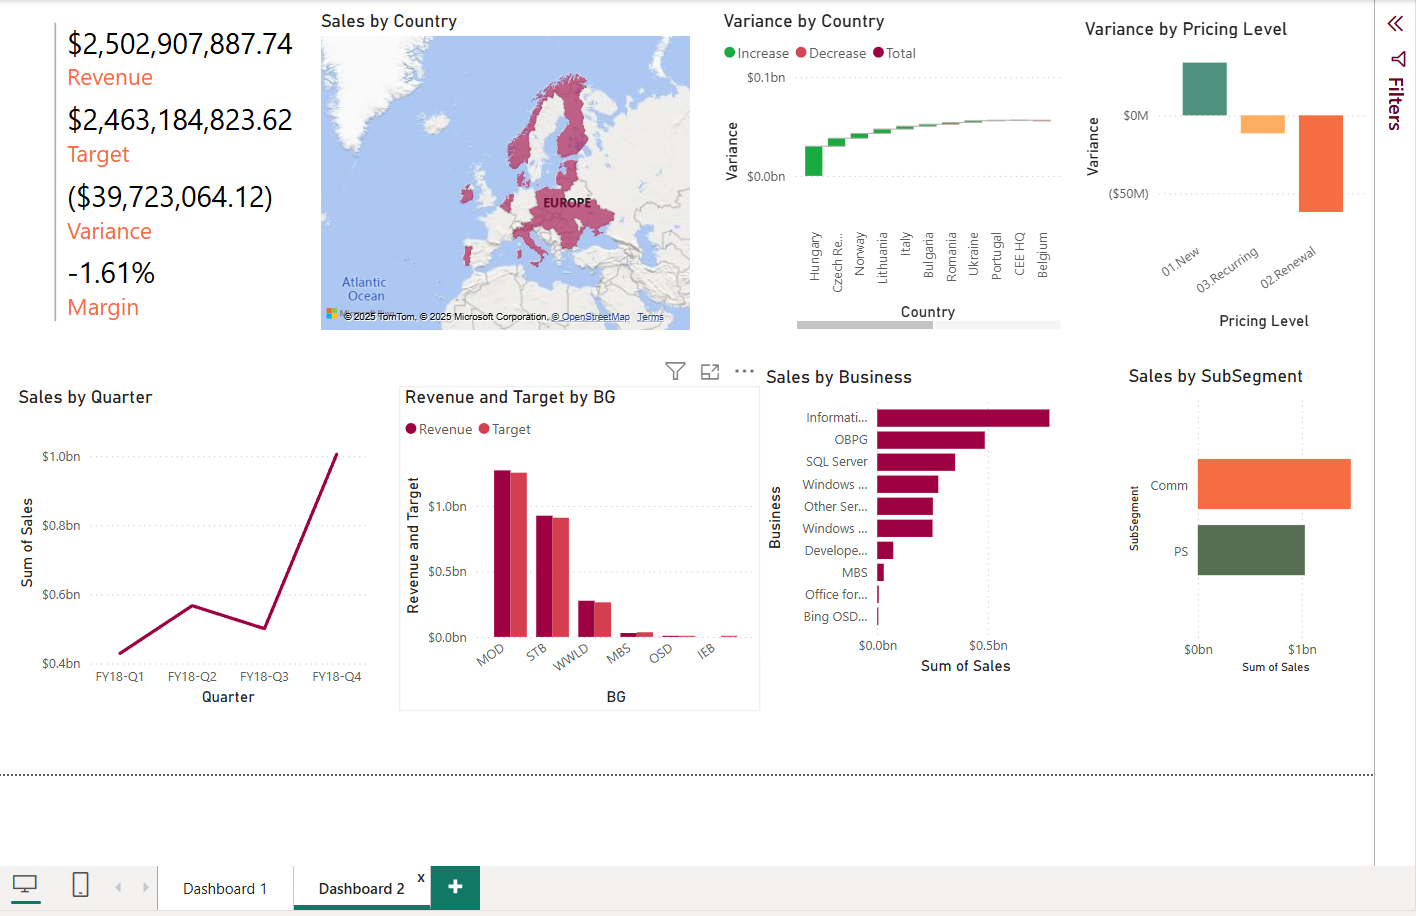

This screenshot's page, from the dashboard's own definition file:
{"tool":"powerbi","page":{"name":"Dashboard 2","canvas":[1280,720],"ordinal":1},"visuals":[{"type":"multiRowCard","fields":{"Values":["KPI.Revenue","KPI.Target","KPI.Variance","KPI.Margin"]},"box":[48,16.5,241.5,295],"z":0},{"type":"filledMap","title":"Sales by Country","fields":{"Category":["Geography.Country"]},"box":[295,9.6,354,301.9],"z":1000},{"type":"waterfallChart","fields":{"Category":["Geography.Country"],"Y":["KPI.Variance"]},"box":[669.6,9.6,323.8,301.9],"z":2000},{"type":"lineChart","title":"Sales by Quarter","fields":{"Category":["Period.Quarter","Period.MonthNumber"],"Y":["Sum(Actuals.Sales)"]},"box":[13.7,359.5,336.2,301.9],"z":3000},{"type":"clusteredColumnChart","fields":{"Y":["KPI.Variance"],"Category":["PricingLevel.Pricing Level"]},"box":[1005.8,16.5,274.4,295],"z":4000},{"type":"clusteredColumnChart","fields":{"Y":["KPI.Revenue","KPI.Target"],"Category":["Product.BG"]},"box":[373.2,359.5,336.2,301.9],"z":5000},{"type":"barChart","title":"Sales by Business","fields":{"Category":["Product.Business"],"Y":["Sum(Actuals.Sales)"]},"box":[709.4,340.3,296.4,292.3],"z":6000},{"type":"barChart","title":"Sales by SubSegment","fields":{"Category":["SubSegment.SubSegment"],"Y":["Sum(Actuals.Sales)"]},"box":[1046.2,340,233.8,292.5],"z":7000}]}

Visuals, with their boxes on the page's 1280x720 design canvas (x1, y1, x2, y2). These are canvas units, not pixel positions in the 1416x916 screenshot, which may show the page scaled, cropped or inside an application window:
multiRowCard - KPI.Revenue x KPI.Target: box=[48, 16, 290, 312]
"Sales by Country" filledMap: box=[295, 10, 649, 312]
waterfallChart - Geography.Country x KPI.Variance: box=[670, 10, 993, 312]
"Sales by Quarter" lineChart: box=[14, 360, 350, 661]
clusteredColumnChart - KPI.Variance x PricingLevel.Pricing Level: box=[1006, 16, 1280, 312]
clusteredColumnChart - KPI.Revenue x KPI.Target: box=[373, 360, 709, 661]
"Sales by Business" barChart: box=[709, 340, 1006, 633]
"Sales by SubSegment" barChart: box=[1046, 340, 1280, 632]
